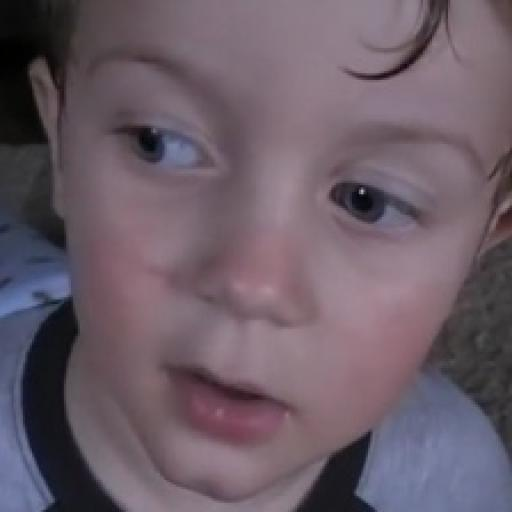Autism: (31, 0, 512, 512)
